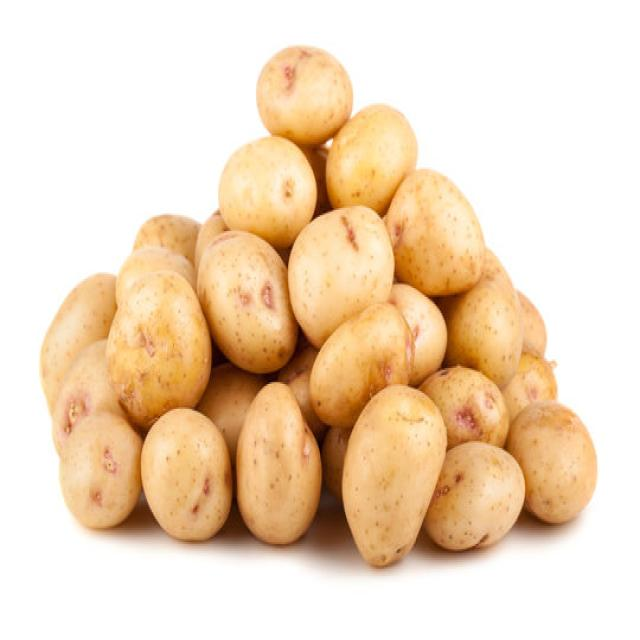Potato: (340, 382, 447, 567), (110, 275, 201, 420), (239, 390, 326, 535), (298, 204, 391, 328), (204, 233, 289, 364), (218, 125, 306, 250), (142, 410, 224, 536), (400, 172, 486, 292), (257, 40, 344, 145), (436, 453, 526, 547), (40, 270, 109, 392), (333, 105, 420, 201), (526, 406, 595, 522), (437, 341, 505, 455), (67, 414, 130, 532), (464, 275, 526, 383)
